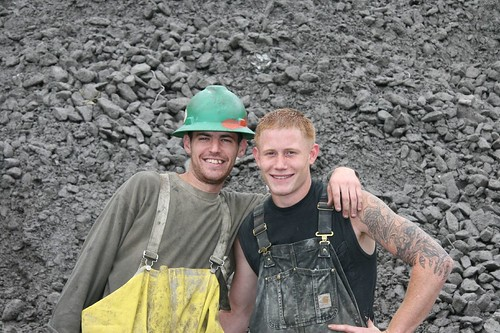person hardhat: (173, 84, 257, 183)
